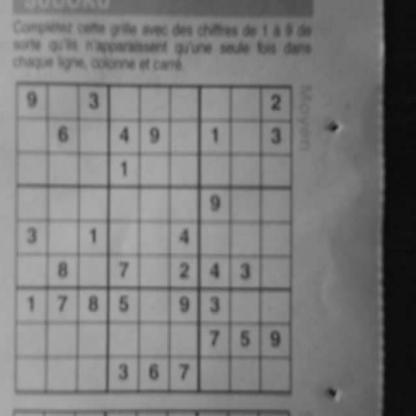sudoku: (12, 78, 295, 399)
